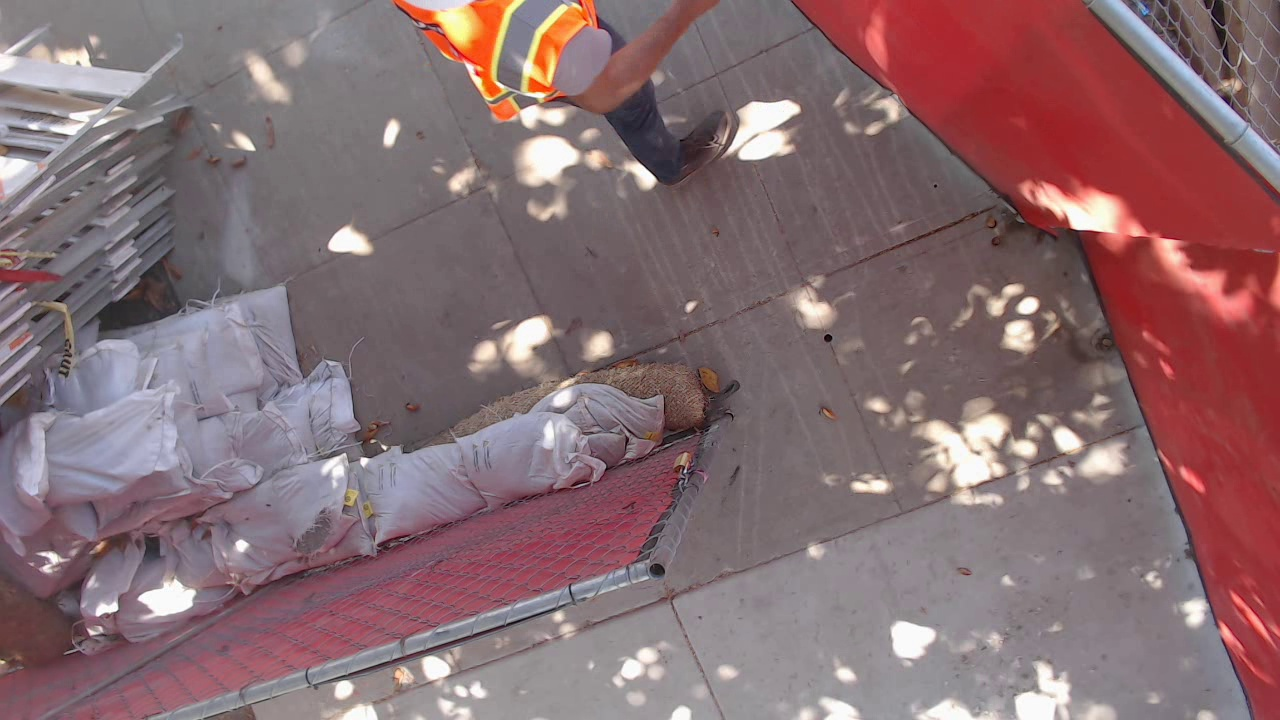person: (390, 1, 732, 185)
safetyvest: (393, 1, 601, 124)
